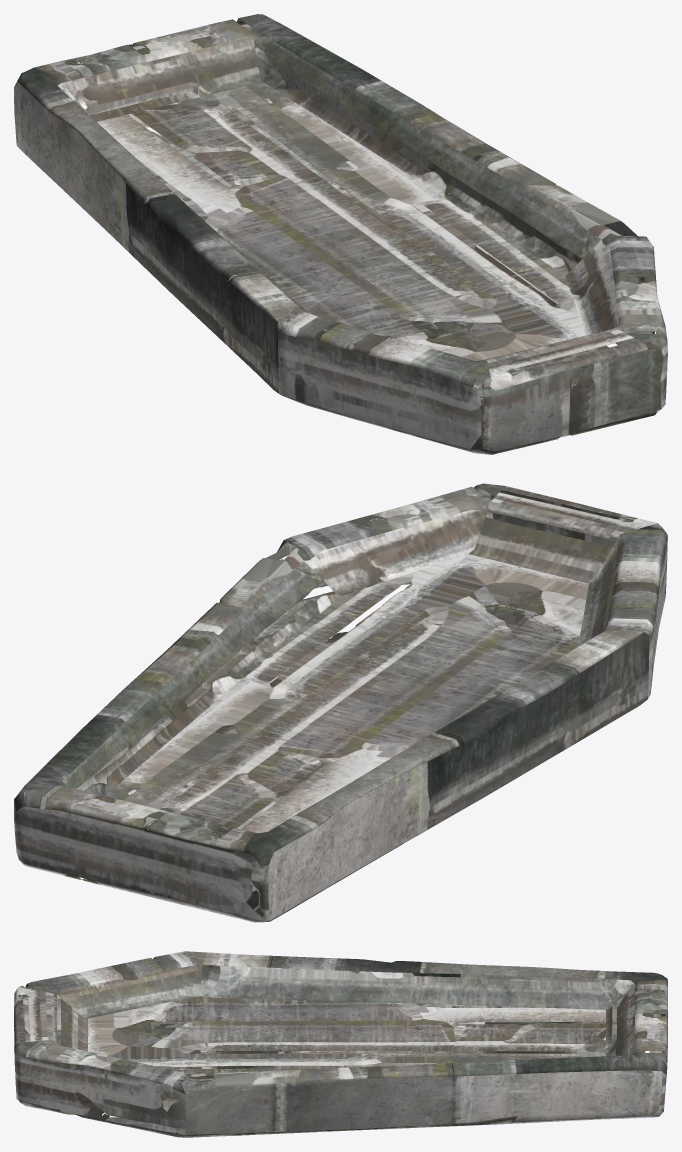
3 renders of one model, top to bottom at view 1: azimuth 30°, elevation 25°; view 2: azimuth 150°, elevation 25°; view 3: azimuth 270°, elevation 25°, orthographic. The views are drawn at different scales.
Visible parts, largest first — view 1: SM_Coffin_02v1_LOD0; view 2: SM_Coffin_02v1_LOD0; view 3: SM_Coffin_02v1_LOD0.
Part boxes in pixels (x1=…): SM_Coffin_02v1_LOD0: x1=14, y1=14, x2=667, y2=454; SM_Coffin_02v1_LOD0: x1=14, y1=483, x2=667, y2=922; SM_Coffin_02v1_LOD0: x1=14, y1=951, x2=667, y2=1137.
Bounding box in the file's own units: 1.13 × 0.2248 × 2.31.
